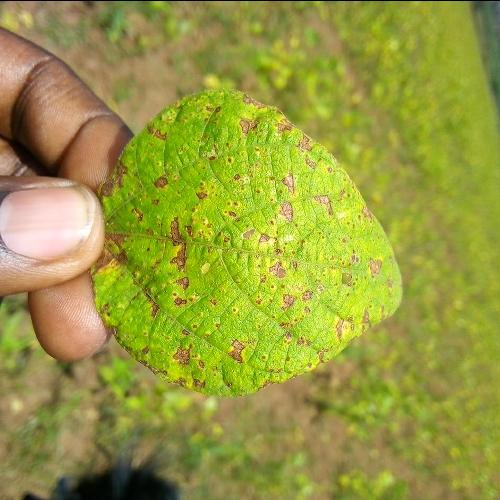hawar: (113, 106, 349, 382)
